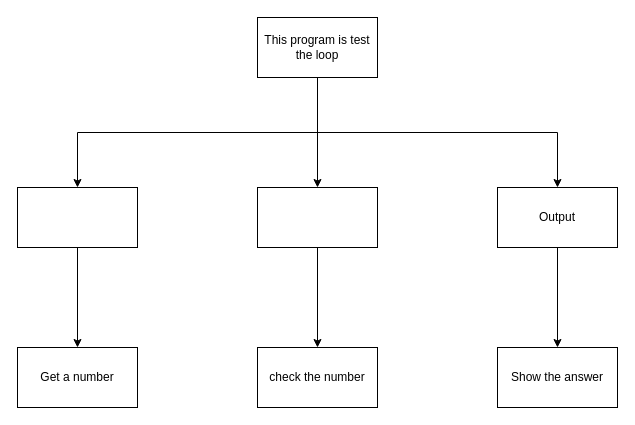
Image size: 635x425. Some labels were removed from this diagram. The shapes that lost their labels are listed below. From the top down, each one's box as (x1, y1, x2, y2) in pixels, then its label:
(16, 186, 138, 248): Input
(256, 186, 378, 248): Process
